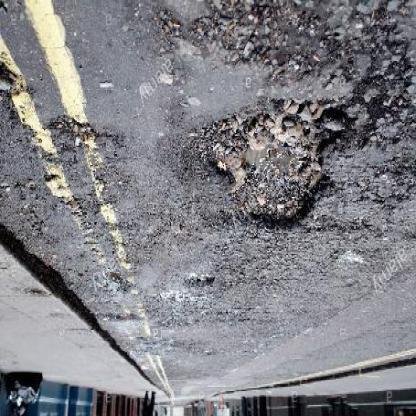pothole: (187, 98, 359, 238), (187, 276, 217, 290)
